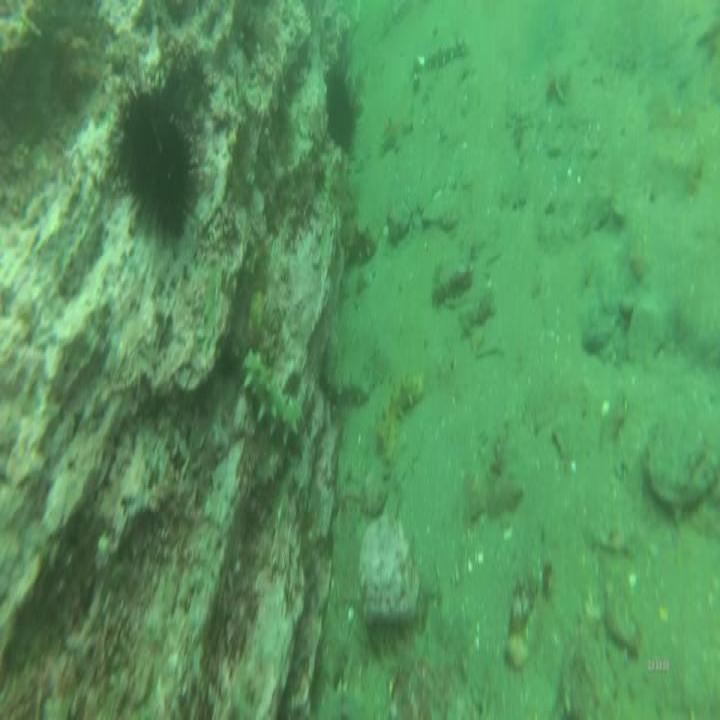echinus: (112, 66, 202, 258), (326, 69, 365, 160)
holothurian: (240, 343, 307, 446), (371, 364, 428, 458), (336, 208, 377, 265), (325, 359, 369, 409), (414, 37, 469, 71)
